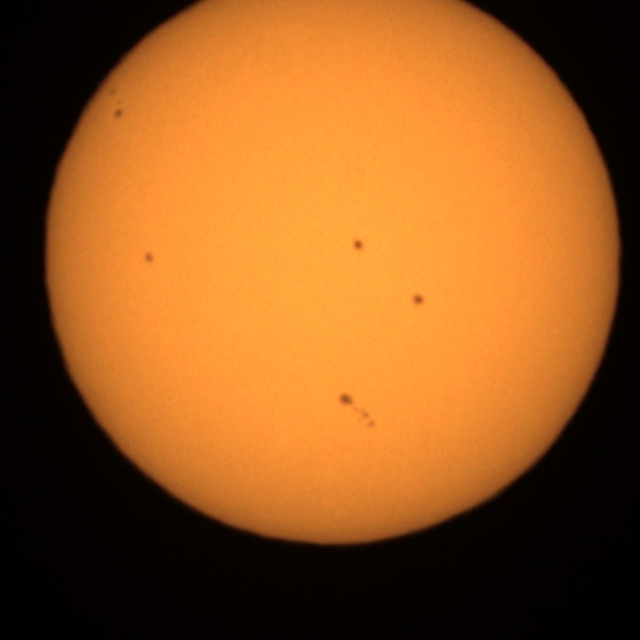sunspot: (337, 390, 378, 431), (107, 86, 126, 121), (410, 292, 426, 308), (351, 238, 366, 253), (142, 250, 156, 266)
